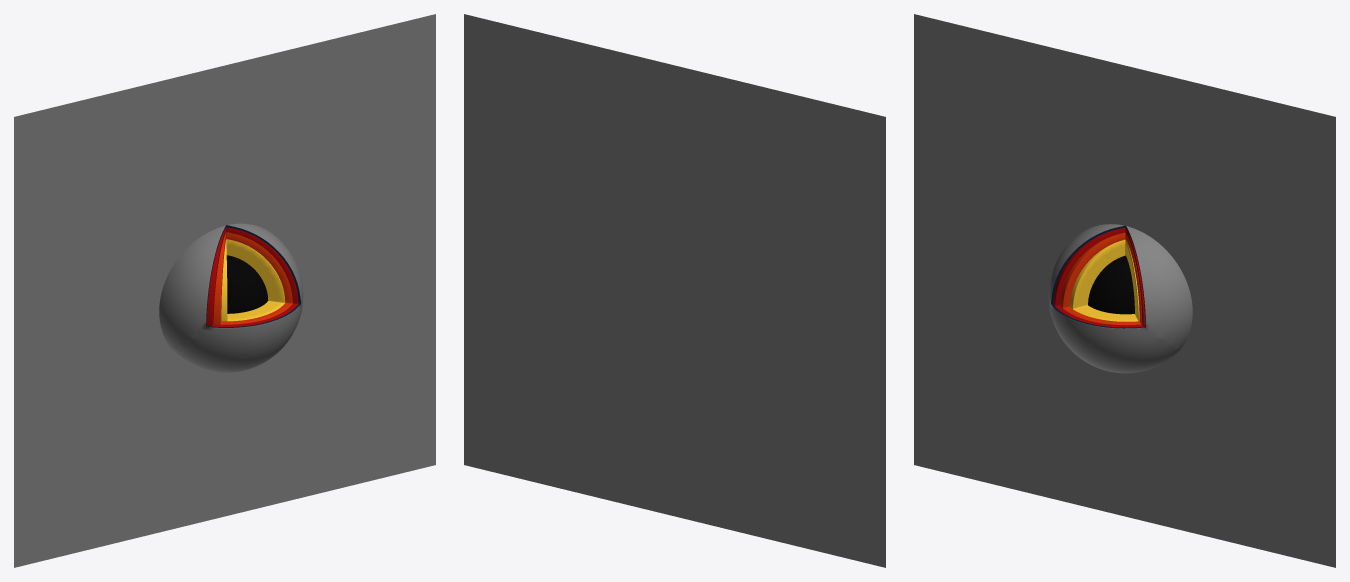
File: geostructure.fbx
3 views of the same model, side by side, from view 1: azimuth 30°, elevation 25°; view 2: azimuth 150°, elevation 25°; view 3: azimuth 330°, elevation 25° (orthographic).
Parts seen in each view (by area): view 1: Plane008, Sphere001, Sphere004, Sphere006, Sphere003, Sphere002; view 2: Plane008; view 3: Plane008, Sphere001, Sphere004, Sphere006, Sphere003, Sphere002.
Part boxes in pixels (x1,y1,x2,y2): Plane008: (14,14,435,567); Sphere001: (159,223,303,372); Sphere004: (221,239,285,321); Sphere006: (226,255,268,313); Sphere003: (213,232,292,324); Sphere002: (206,227,298,326); Plane008: (464,14,885,567); Plane008: (914,14,1335,567); Sphere001: (1048,224,1192,373); Sphere004: (1070,239,1139,321); Sphere006: (1088,255,1134,314); Sphere003: (1060,232,1142,325); Sphere002: (1053,227,1145,327).
Size of the model in its own units: 1450 by 1481 by 231.
